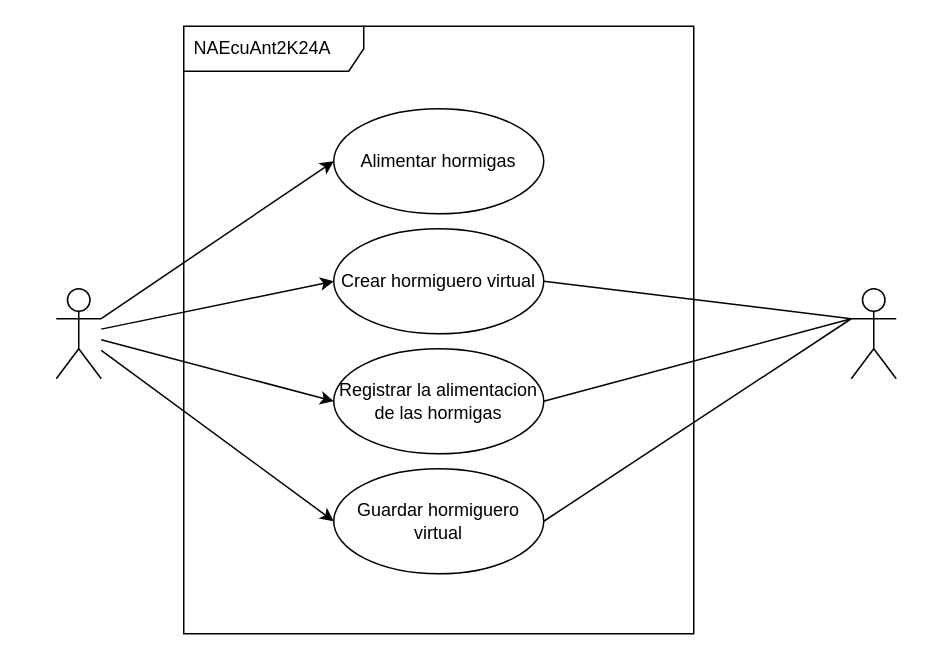
The diagram is 932 pixels wide and 660 high, and some of its shapes have lost their labels. Here are the shapes that lost their labels. From the top down, the centre of each, then its label:
(x=78, y=333): Entomologos
(x=873, y=333): Sistema
